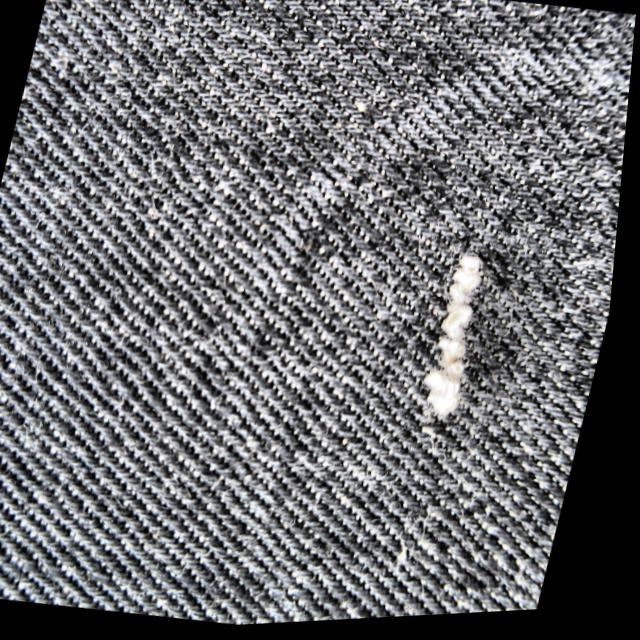Hole: (363, 202, 551, 482)
